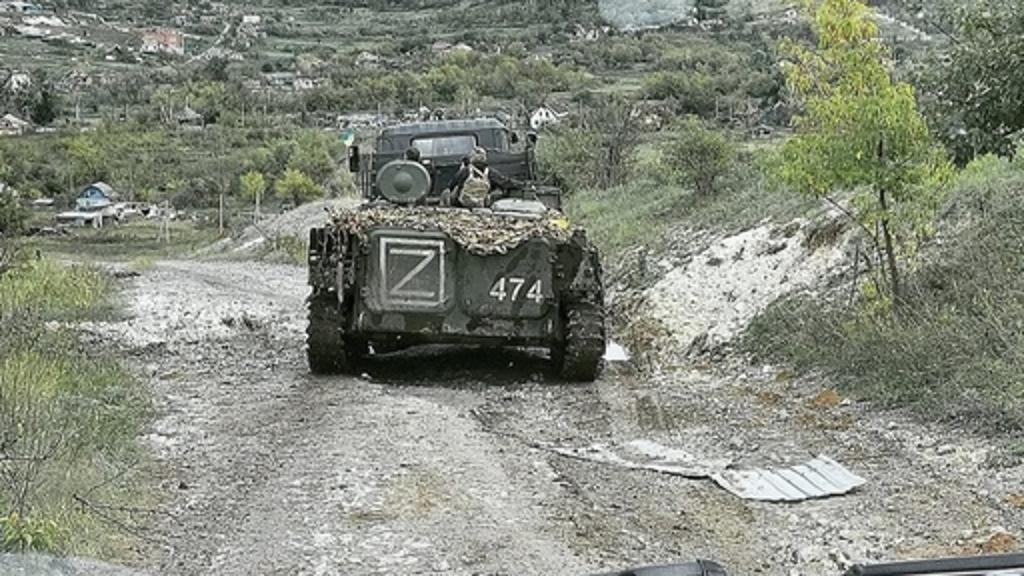APC-IFV: (298, 108, 612, 388)
